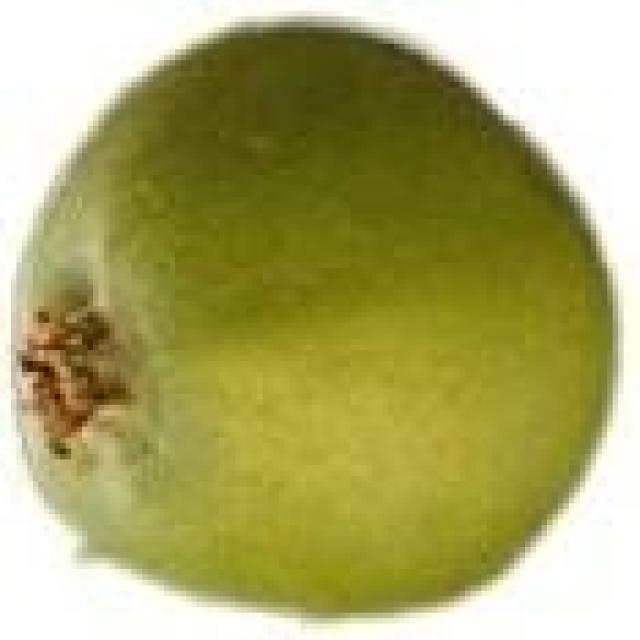Rotten Apple: (14, 19, 615, 610)
